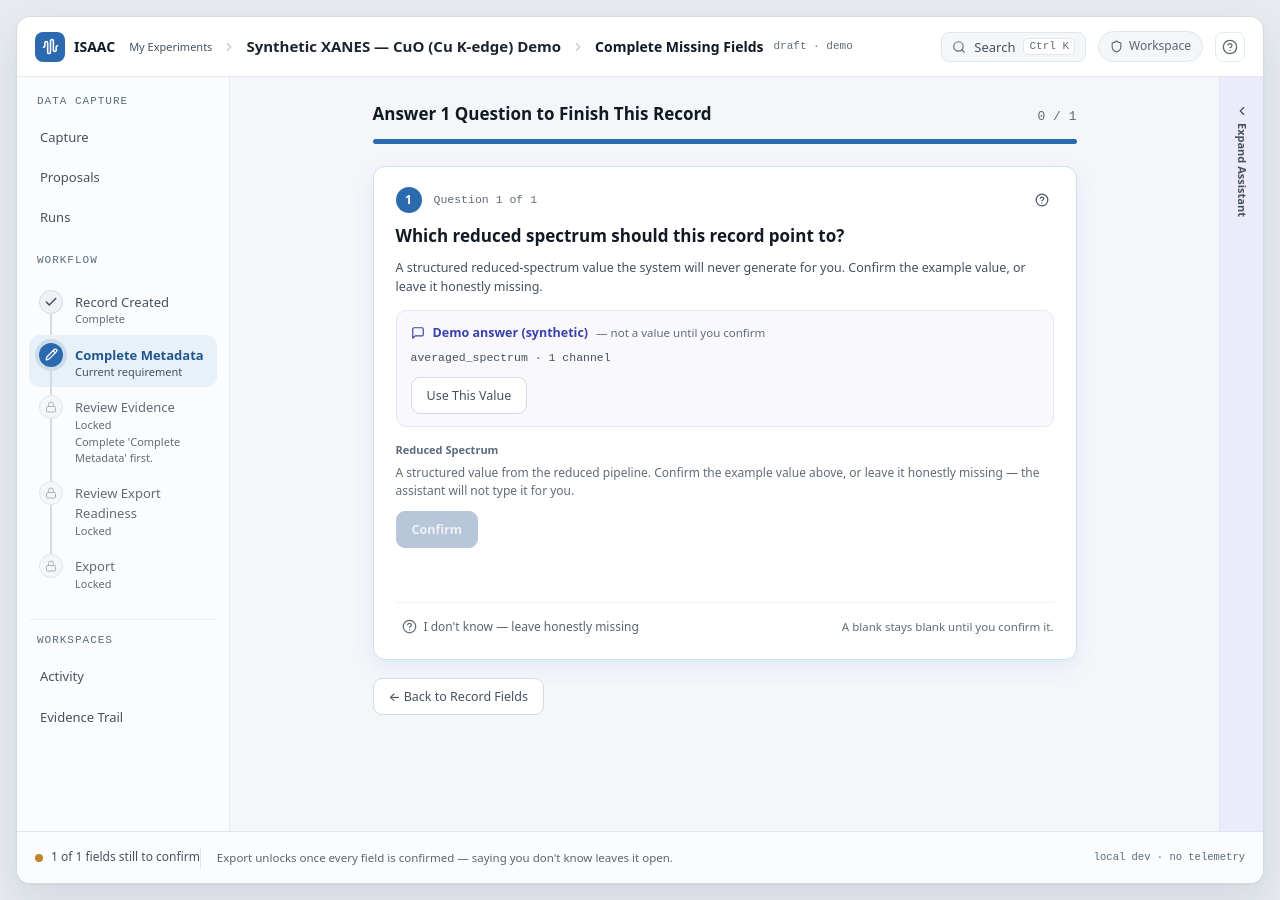
S4 · Guided Completion (live) › a structured blocker (series) can only be confirmed from the labeled demo value
This screenshot has width=1280, height=900.
Expected: the heading "Which reduced spectrum should this record point to?" is shown, x1=396 y1=224 x2=844 y2=247
Expected: the button "Confirm" is disabled, x1=396 y1=511 x2=478 y2=548
What coordinates should you click on to do the following:
click the button "Use This Value"
I would click on:
 (469, 395)
Its box is x1=410 y1=377 x2=527 y2=414.
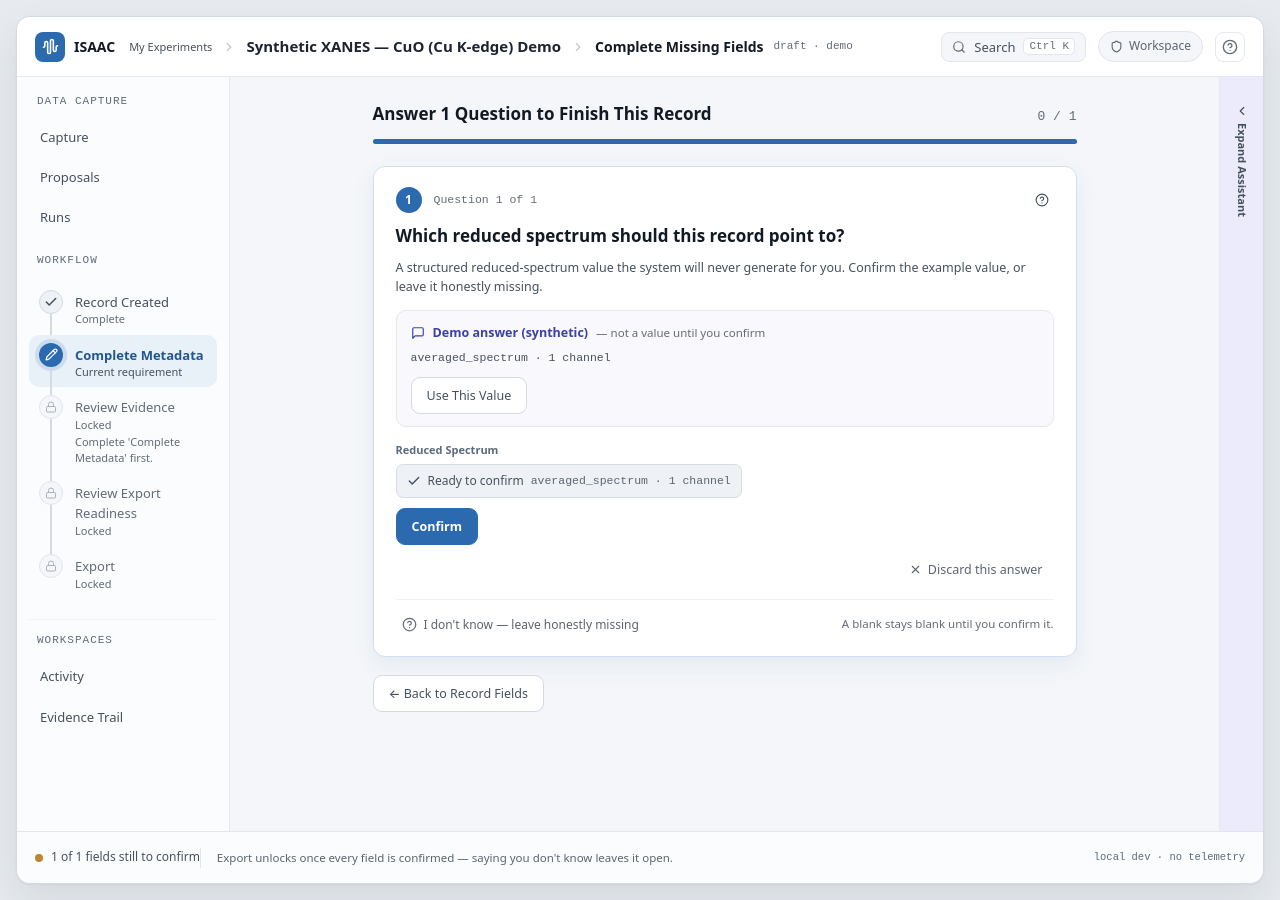
Result: the button "Confirm" is enabled
What coordinates should you click on to do the following:
click the button "Confirm"
I would click on:
 (437, 527)
Its box is x1=396 y1=508 x2=478 y2=545.
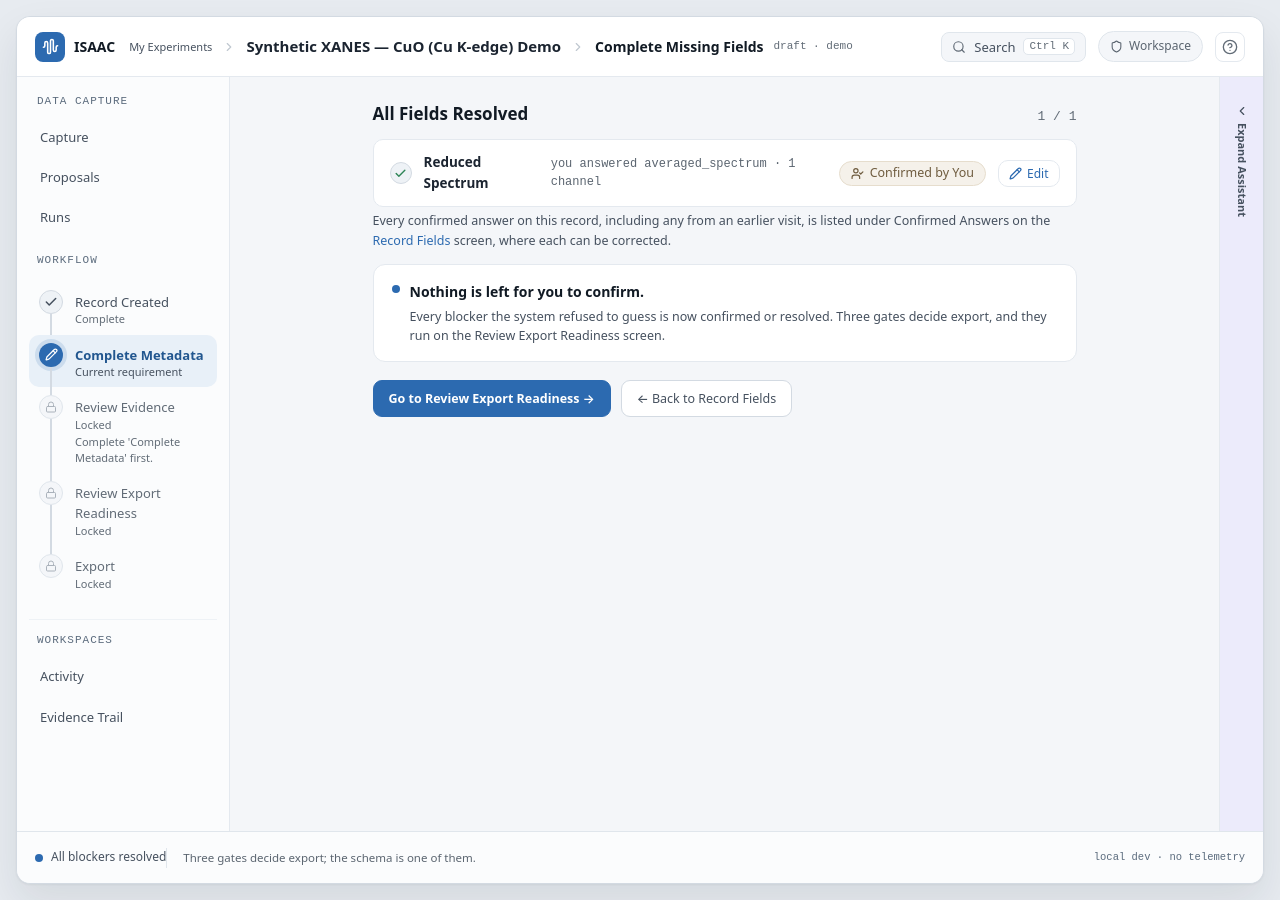
Result: the text "Nothing is left for you to confirm." is shown at x1=410 y1=282 x2=644 y2=301
Result: the message with class "completion-done" is shown at x1=372 y1=264 x2=1076 y2=362
Result: the button "Go to Review Export Readiness →" is shown at x1=372 y1=380 x2=611 y2=417
